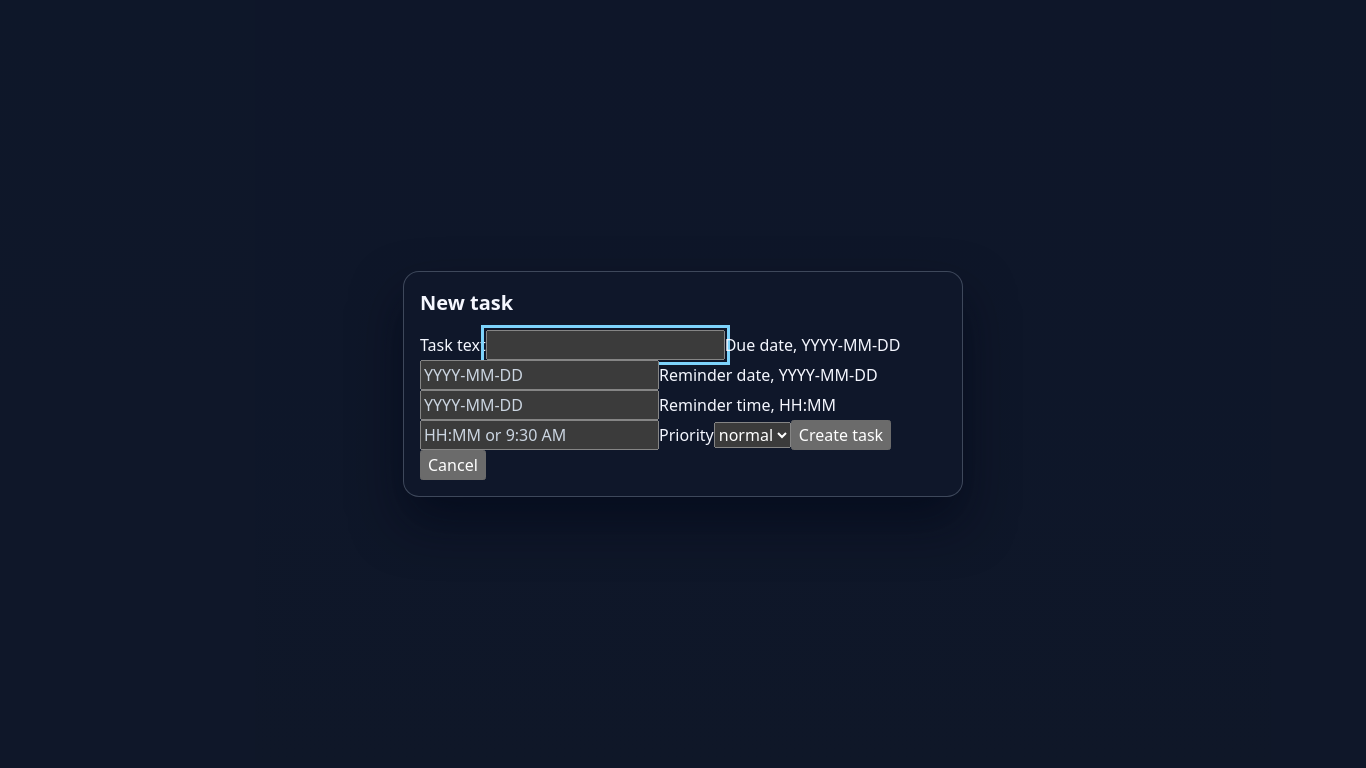
Test: new task dialogs › rejects impossible dates and times typed into the text fields
Type "Plan" into the field labelled "Task text". click: (605, 345)
box: [486,330,725,360]
Type "2026-02-30" into the field labelled "Due date, YYYY-MM-DD". click: (540, 375)
box: [420,360,659,390]
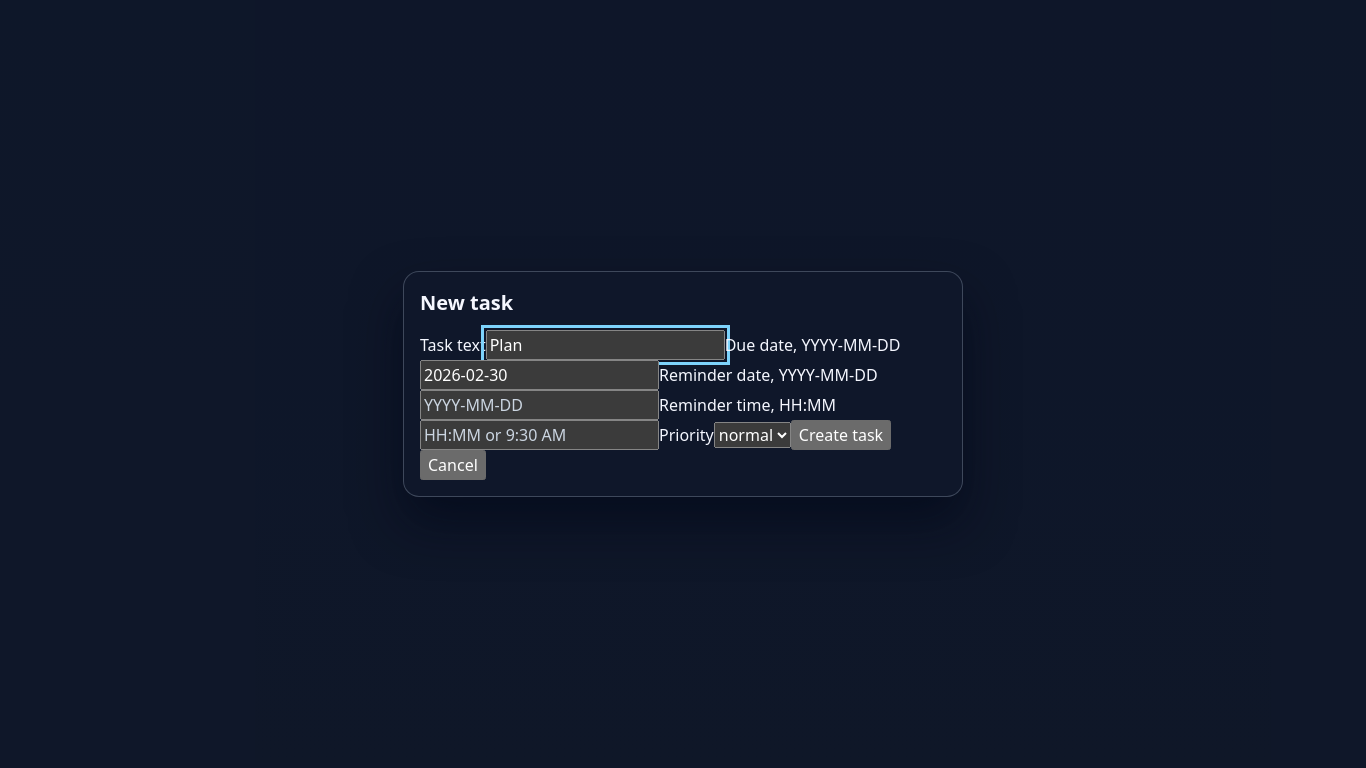
Click the button "Create task". click: (841, 435)
box: [791,420,891,450]
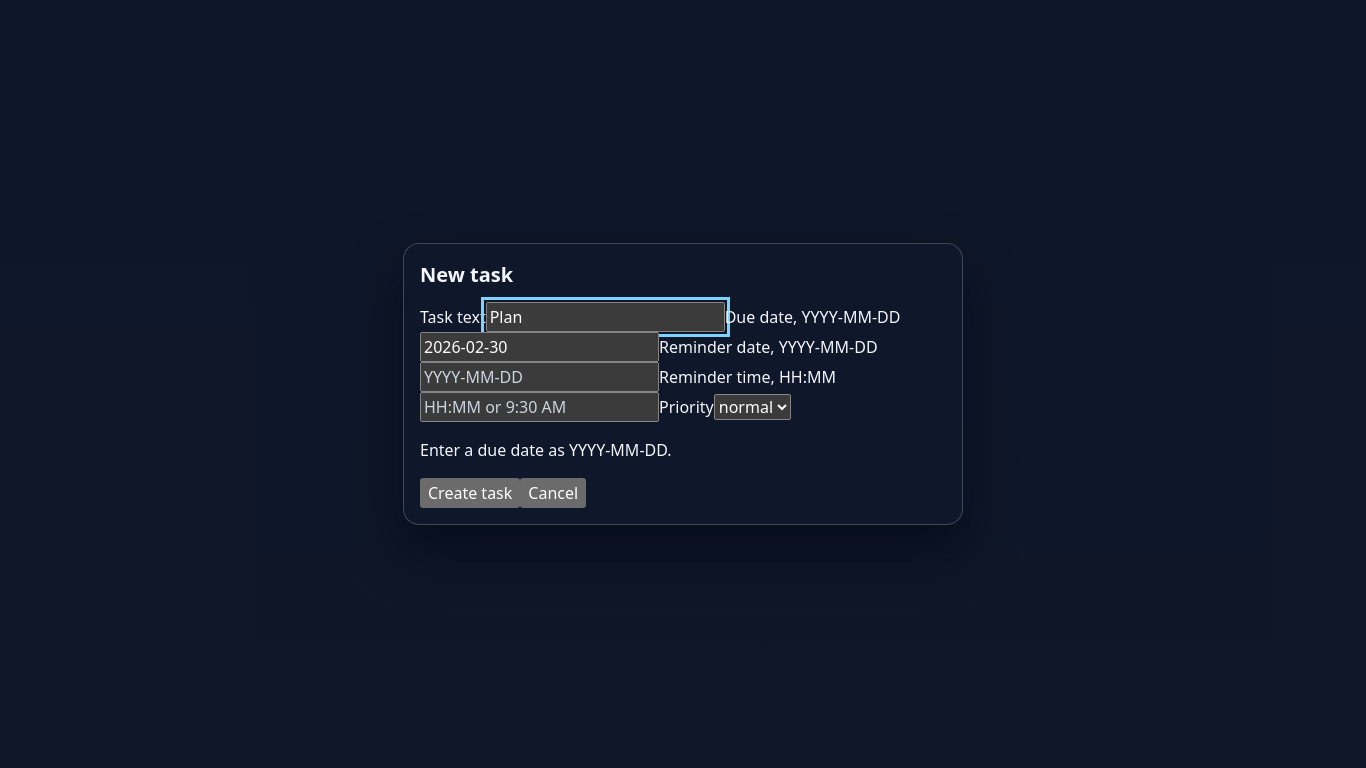
Now the message reads "Enter a due date as YYYY-MM-DD.", box [420,439,672,461]
Replace the text in the field labelled "Due date, YYYY-MM-DD" with "2026-11-01". click: (540, 347)
box: [420,332,659,362]
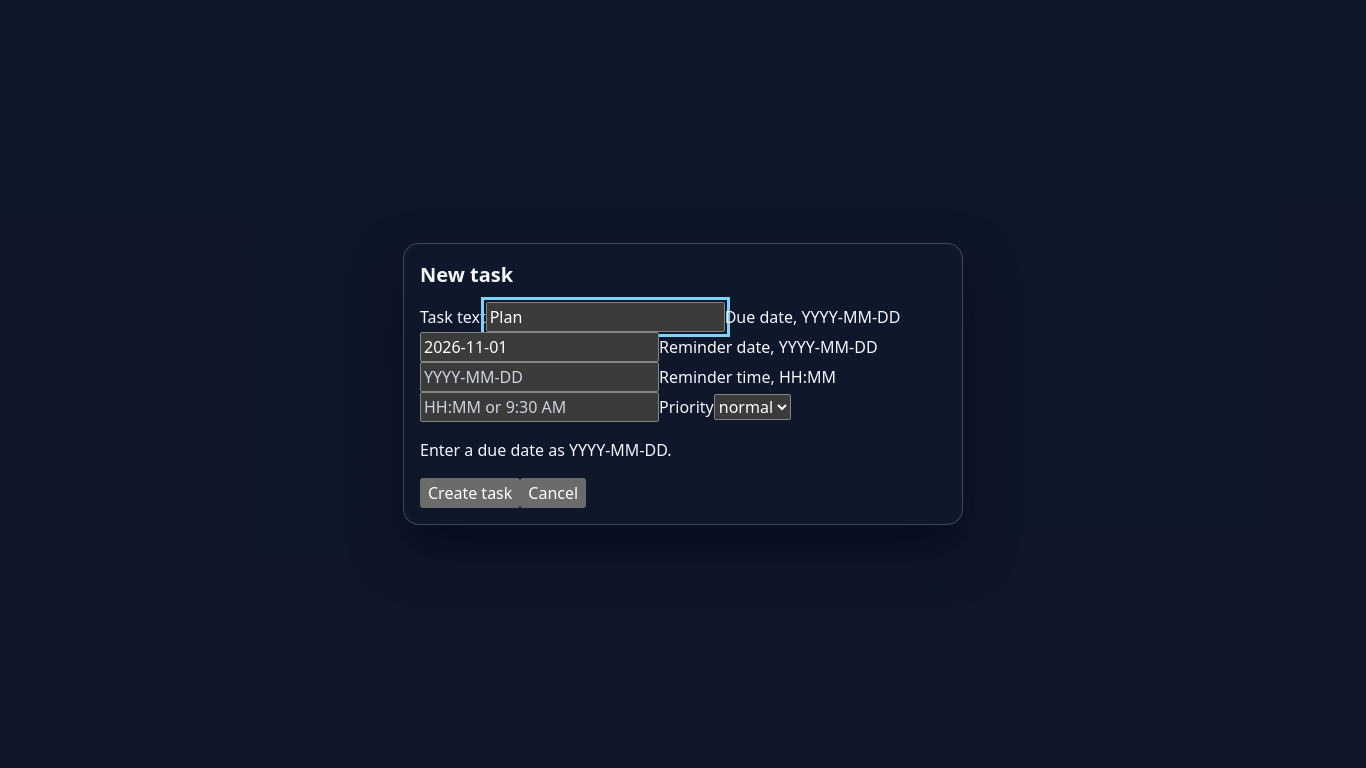
Type "2026-11-01" into the field labelled "Reminder date, YYYY-MM-DD". click: (540, 377)
box: [420,362,659,392]
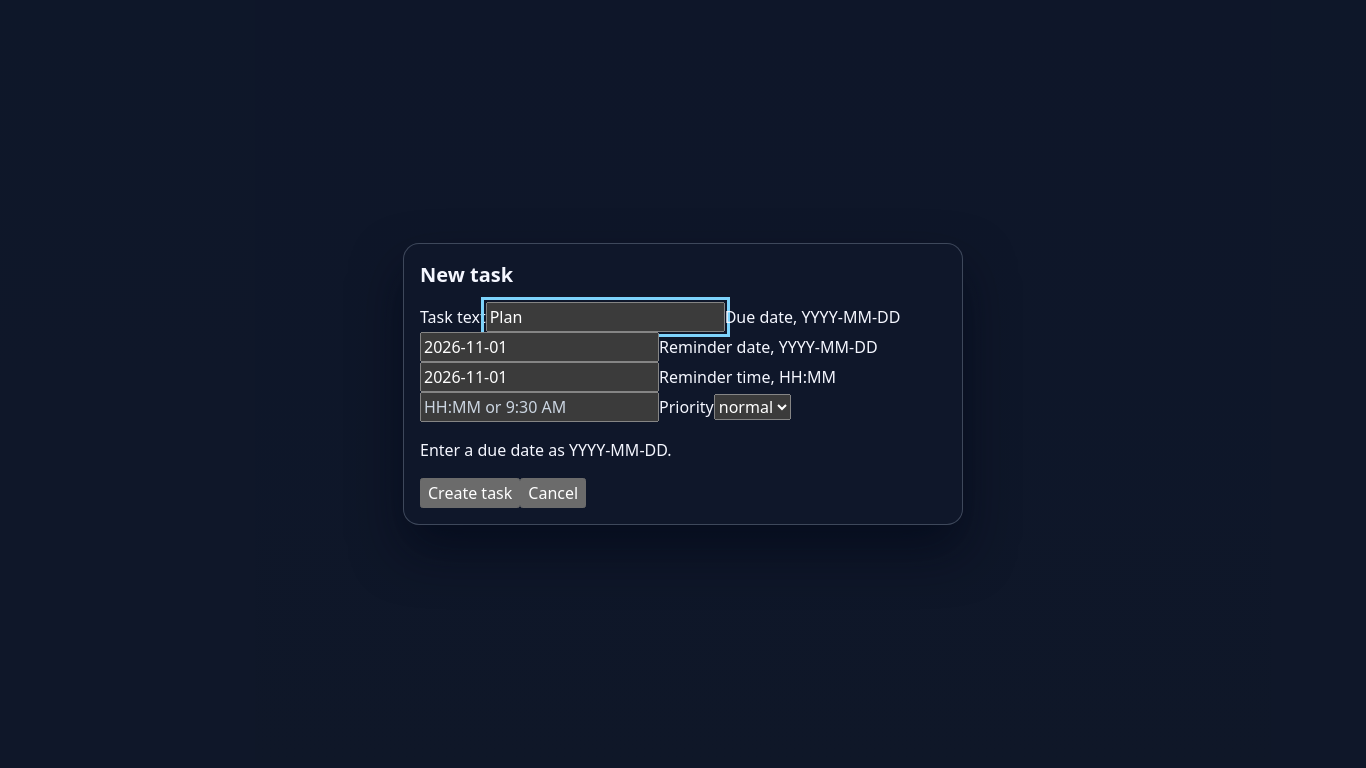
Type "25:00" into the field labelled "Reminder time, HH:MM". click: (540, 407)
box: [420,392,659,422]
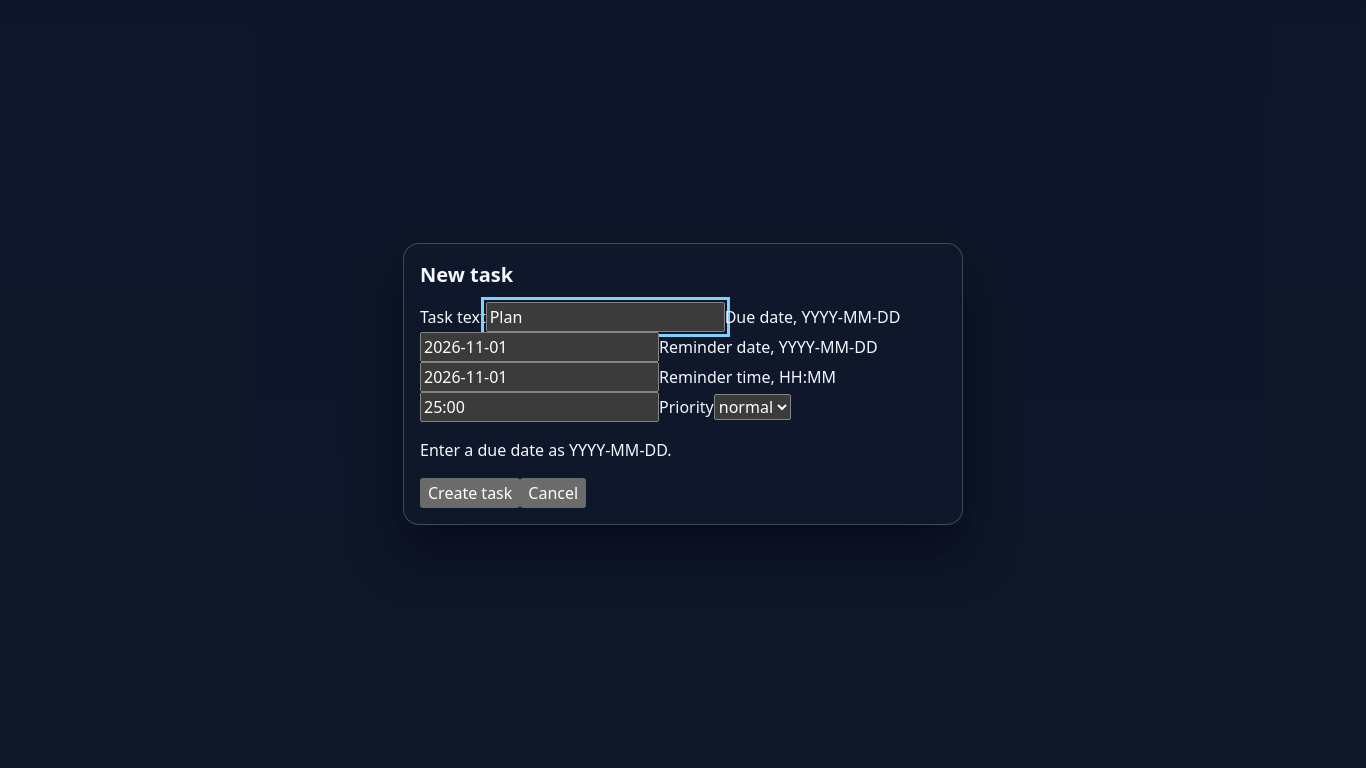
Click the button "Create task". click: (470, 493)
box: [420,478,520,508]
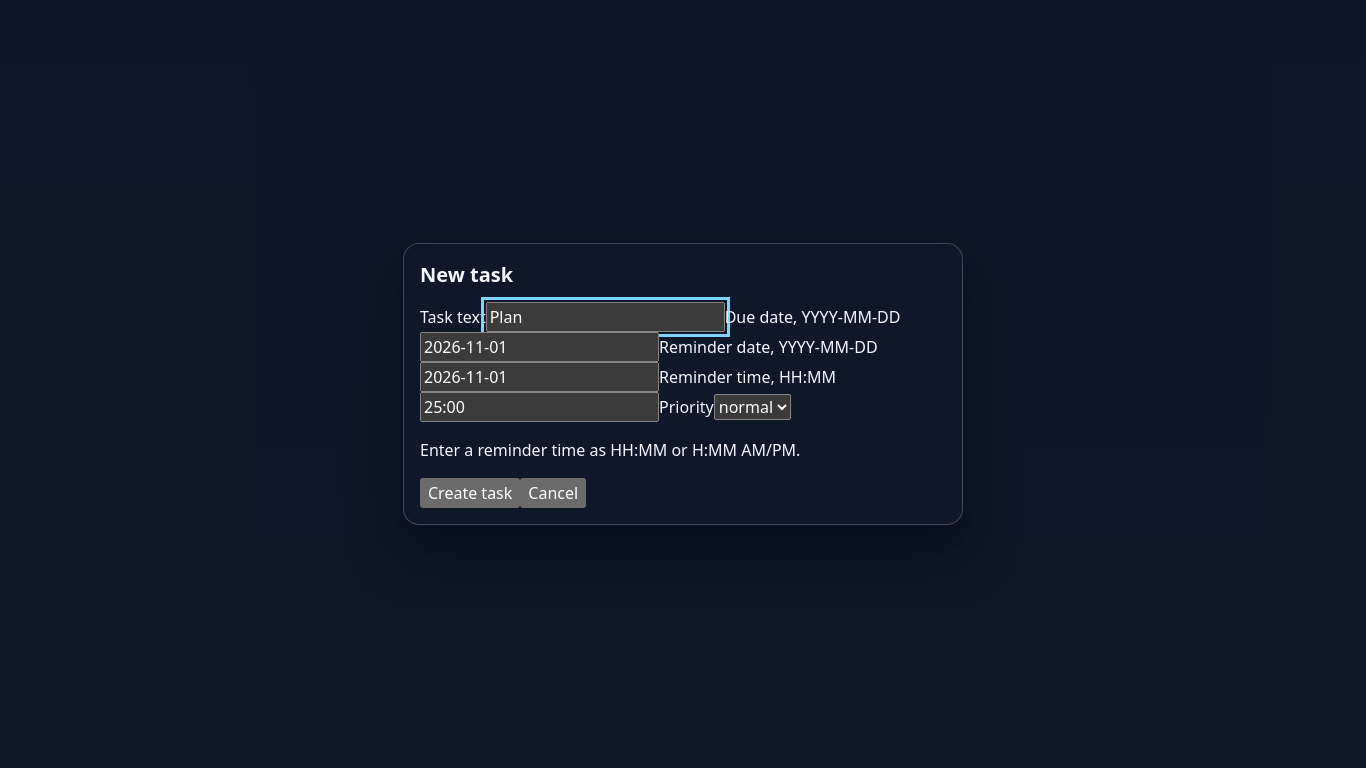
Now the message reads "Enter a reminder time as HH:MM or H:MM AM/PM.", box [420,439,800,461]
